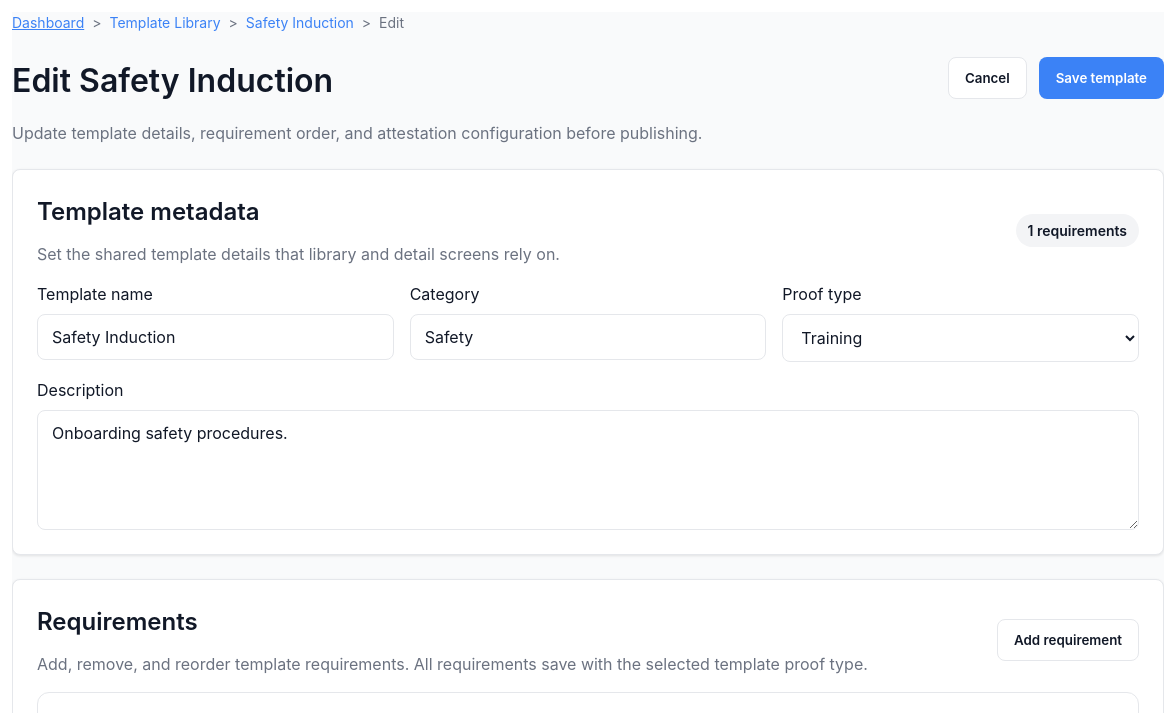
Test: TemplateEditorPage › enables adding a new requirement
Click the button "Add requirement" at (1068, 640), box [997,619,1139,661]
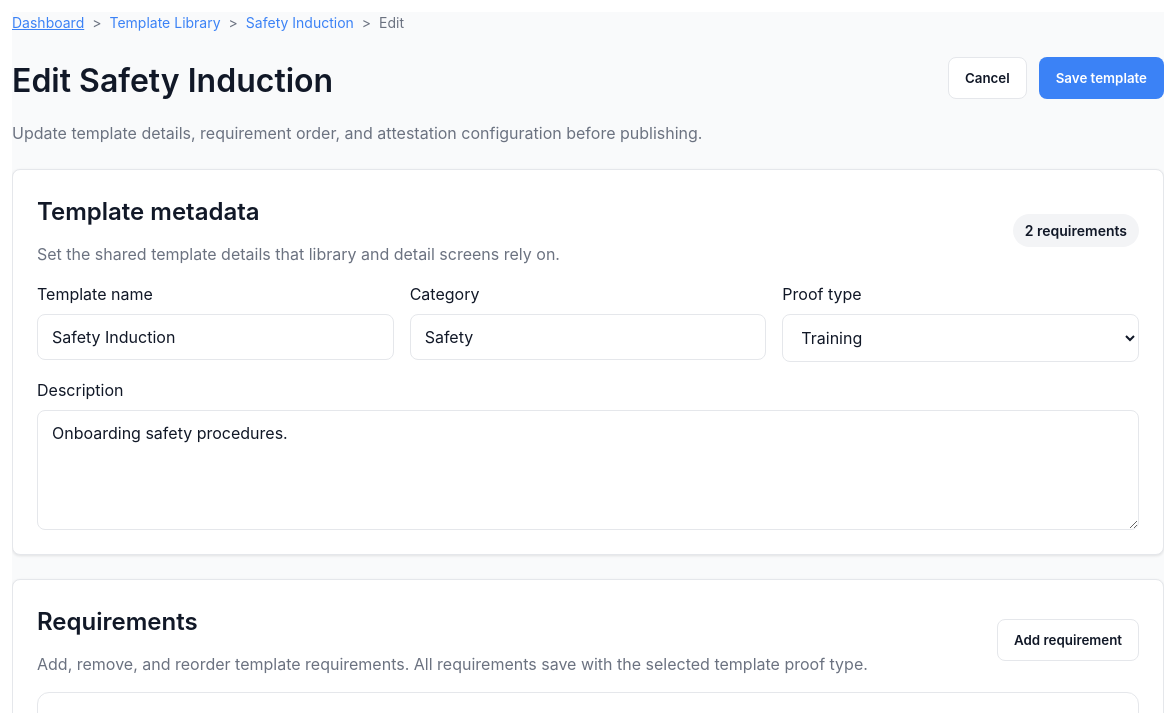
Expected: the text "2 requirements" is shown, [1013,214,1139,246]
